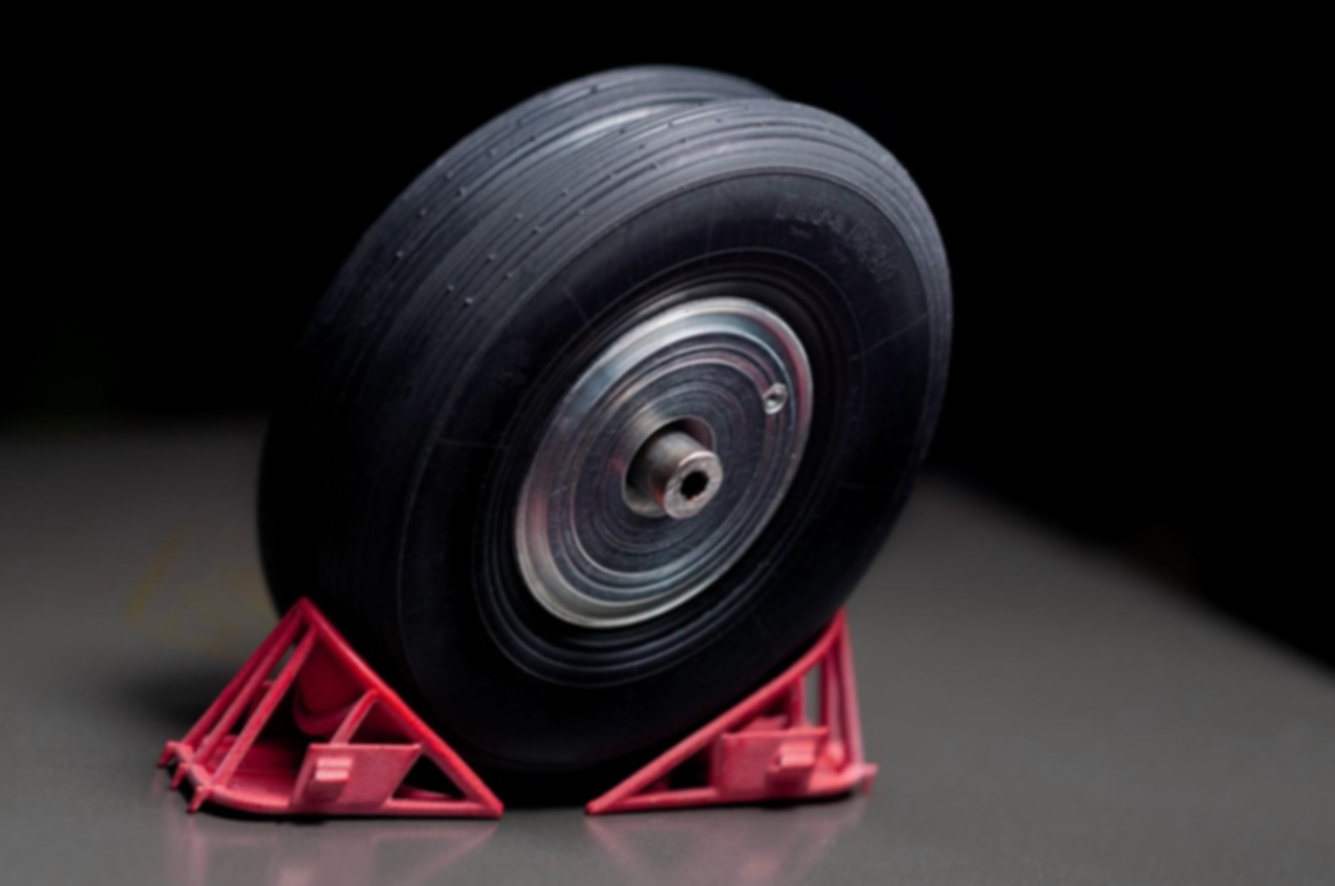chock: (136, 580, 573, 844), (570, 585, 929, 844)
wheel: (202, 47, 1041, 847), (155, 27, 858, 765)
